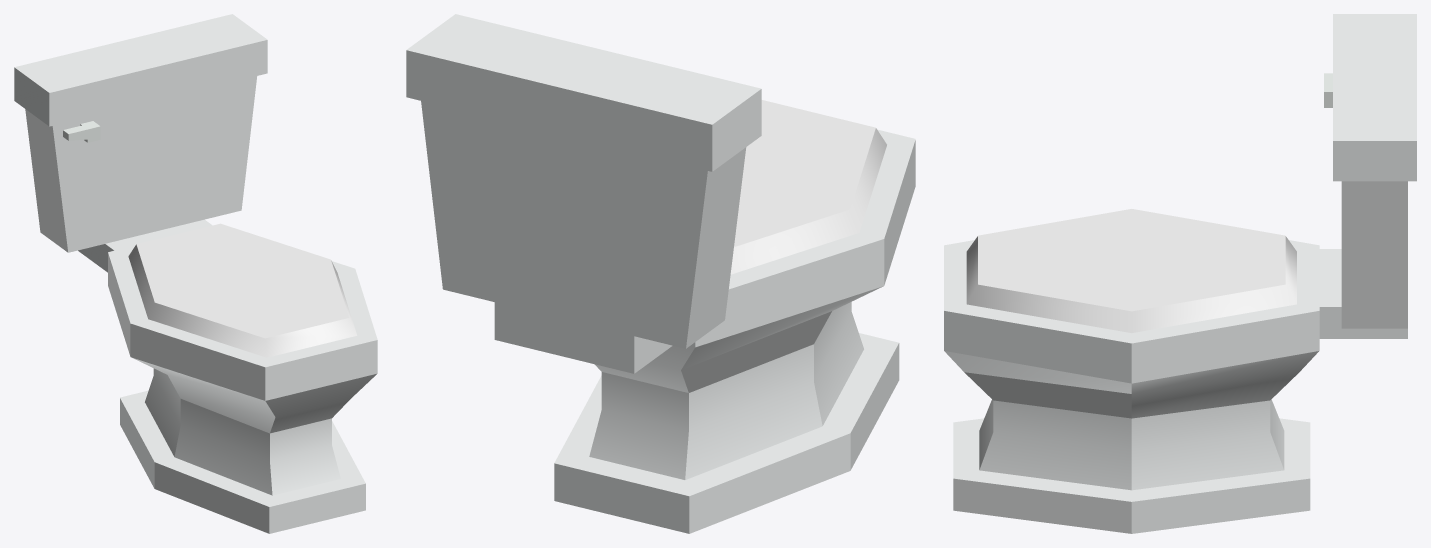
File: toilet.glb
3 views of the same model, side by side, from view 1: azimuth 30°, elevation 25°; view 2: azimuth 150°, elevation 25°; view 3: azimuth 270°, elevation 25° (orthographic). The views are drawn at different scales.
Visible parts, largest first — view 1: toilet(Clone), cover; view 2: toilet(Clone), cover; view 3: toilet(Clone), cover.
Part boxes in pixels (box(x1,y1,x2,y2)): toilet(Clone): box(14, 14, 377, 533); cover: box(128, 223, 357, 357); toilet(Clone): box(406, 14, 915, 533); cover: box(730, 100, 886, 274); toilet(Clone): box(944, 14, 1416, 533); cover: box(966, 209, 1296, 333).
Bounding box in the file's own units: 0.6345 × 0.9155 × 0.9687.
4 materials, 4 textured.
